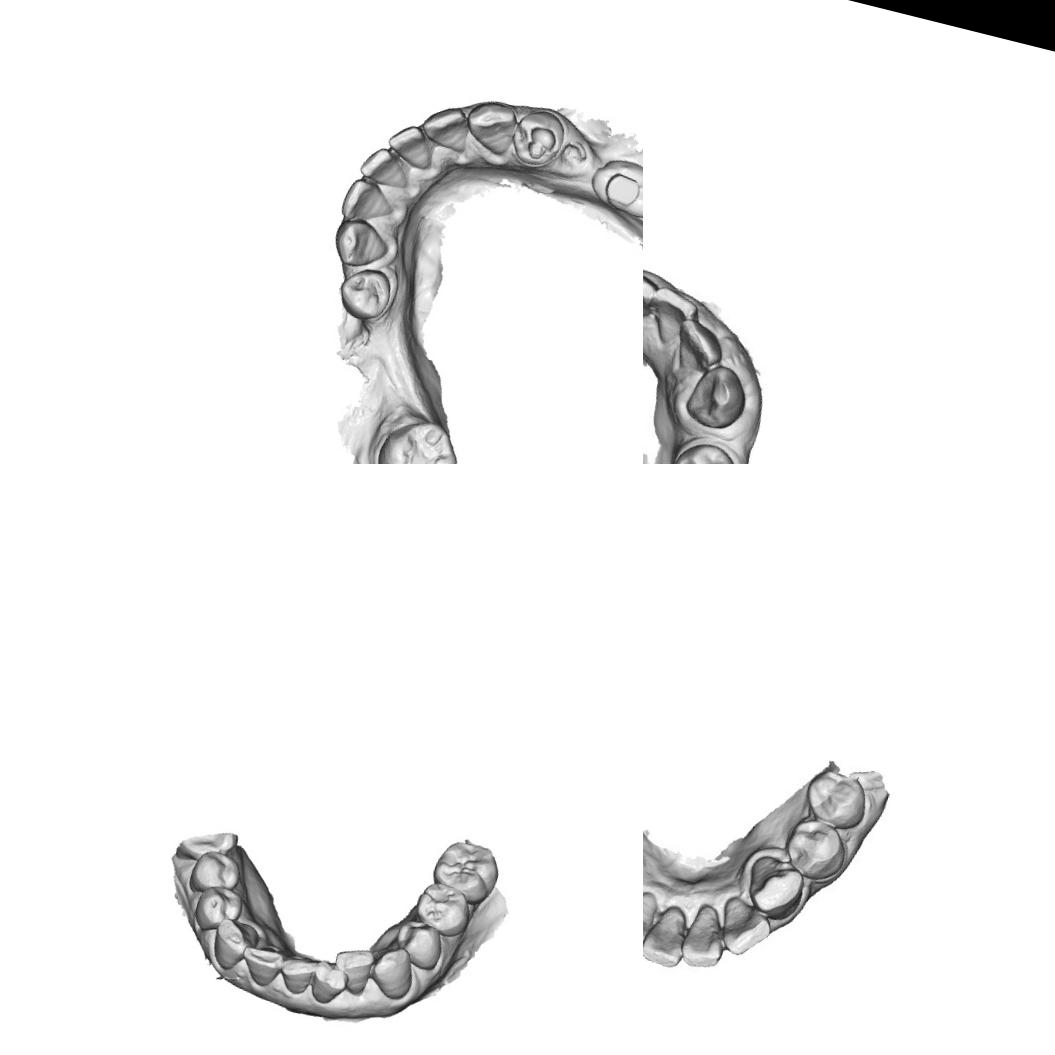canine: (678, 358, 756, 436), (739, 852, 814, 925), (326, 211, 395, 275), (461, 96, 522, 159), (364, 940, 419, 1003), (206, 914, 262, 975)
incisor: (674, 902, 738, 978), (715, 896, 776, 963), (670, 316, 730, 379), (643, 282, 703, 345), (643, 899, 694, 970), (336, 175, 400, 230), (416, 98, 474, 154), (382, 119, 440, 171), (356, 142, 416, 192), (326, 941, 377, 999), (234, 941, 285, 990), (306, 957, 352, 1009), (274, 952, 316, 998), (643, 263, 666, 328), (643, 882, 661, 956)
molar: (426, 834, 504, 910), (366, 409, 469, 464), (583, 150, 643, 223)
premolar: (796, 761, 872, 834), (779, 812, 852, 886), (506, 101, 572, 173), (333, 260, 398, 325), (410, 878, 476, 941), (388, 915, 448, 973), (186, 845, 246, 902), (189, 880, 247, 937), (667, 431, 746, 464)
